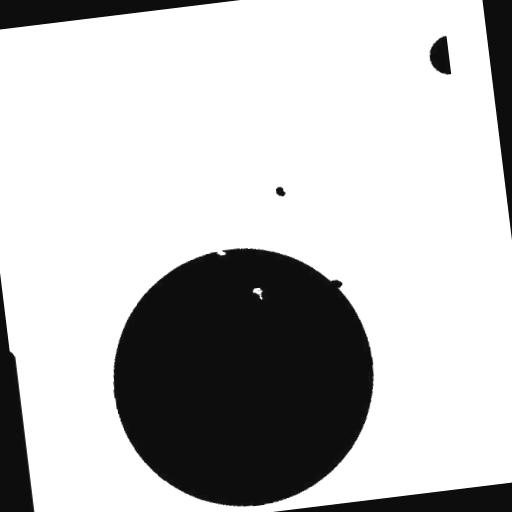copper: (267, 178, 294, 206)
mousebite: (204, 240, 234, 264)
pin-hole: (244, 278, 272, 308)
spur: (321, 270, 351, 296)
